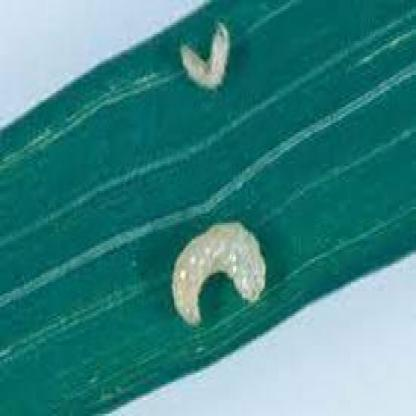whorl-maggot: (164, 210, 272, 334), (176, 16, 238, 88)
